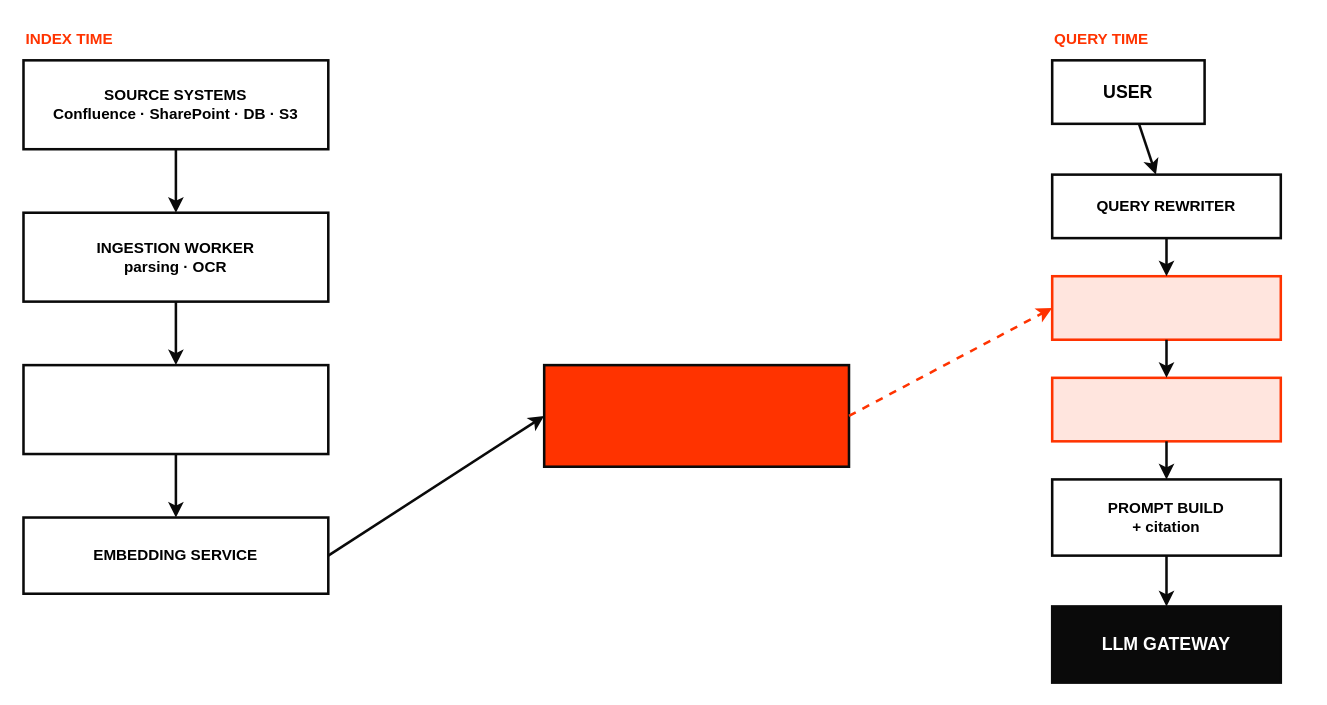
This 1327x705 diagram has some shape labels left out. The shapes that lost their labels are listed below. From the top down, each one's centre as x and y in pixels, then its label:
At [1165,307]: "HYBRID RETRIEVER".
At [175,409]: "CHUNKER + METADATA recursive · ACL tag".
At [696,415]: "VECTOR DB + BM25 INDEX".
At [1165,409]: "RERANKER".
